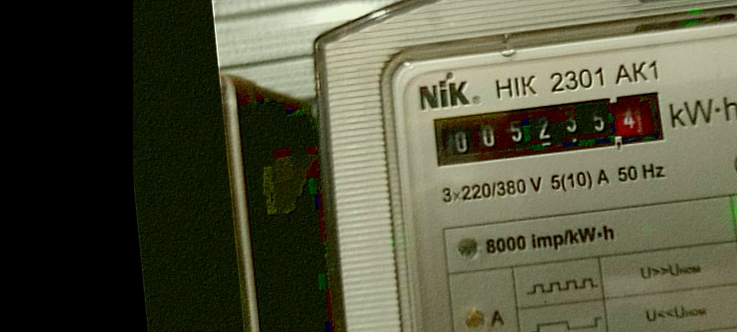0: (453, 127, 471, 154), (481, 123, 498, 148)
2: (535, 113, 554, 141)
3: (562, 108, 581, 134)
4: (620, 102, 640, 132)
5: (590, 104, 608, 133), (509, 117, 525, 143)
screen: (420, 80, 676, 176)
